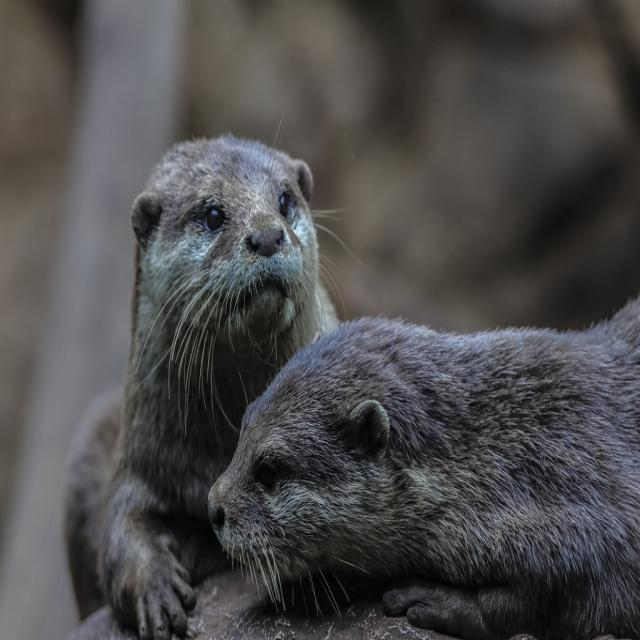otter: (210, 317, 640, 628), (103, 137, 321, 640)
